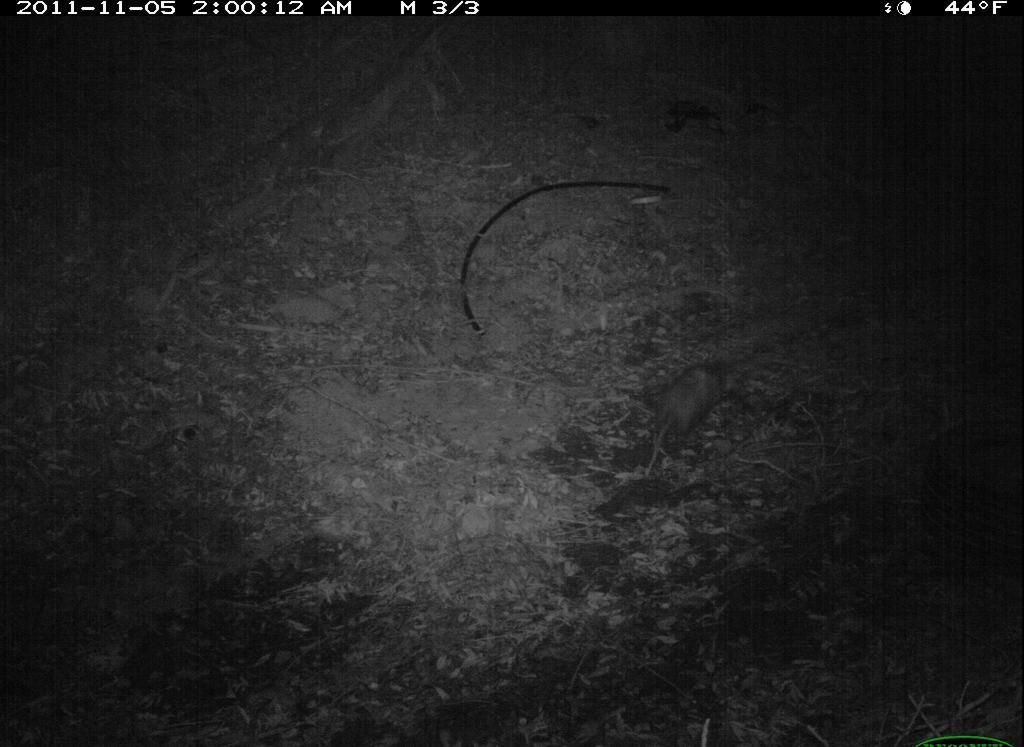opossum: (629, 347, 749, 484)
